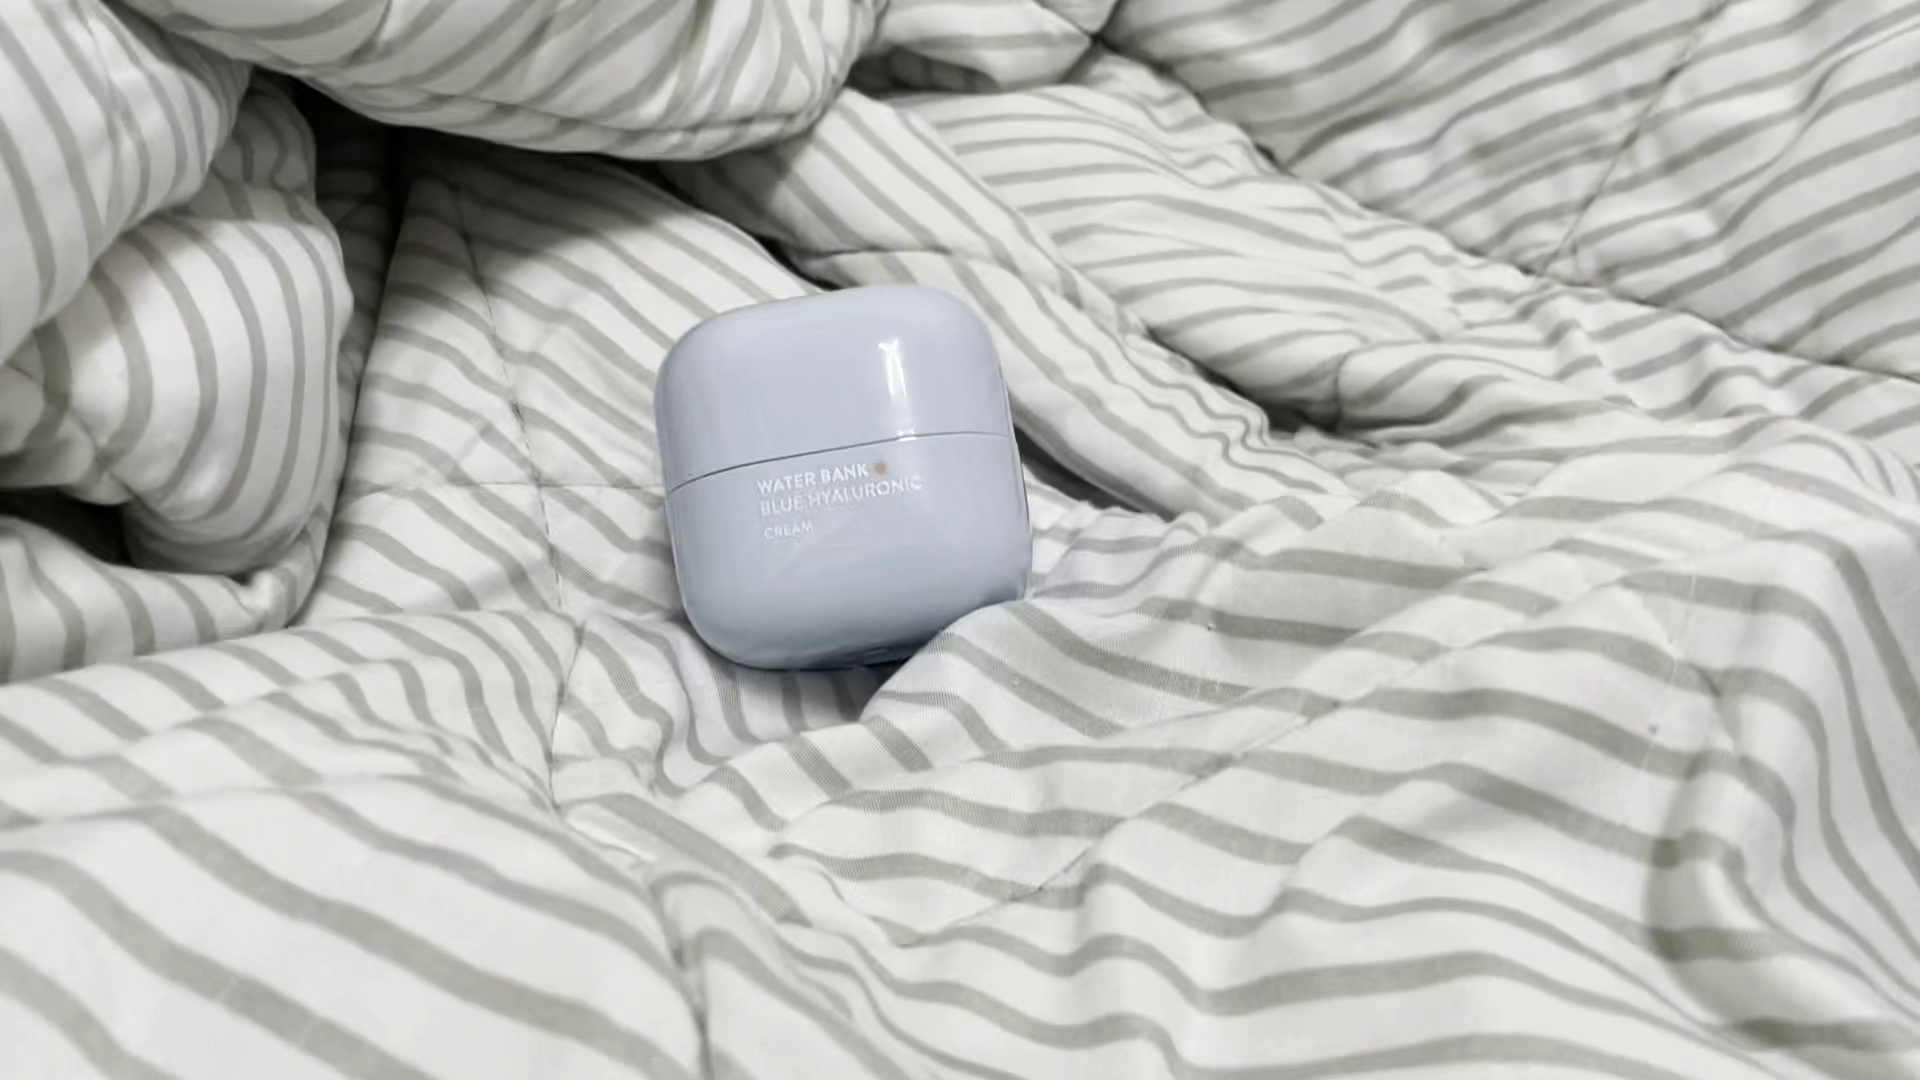cream: (650, 284, 1034, 658)
